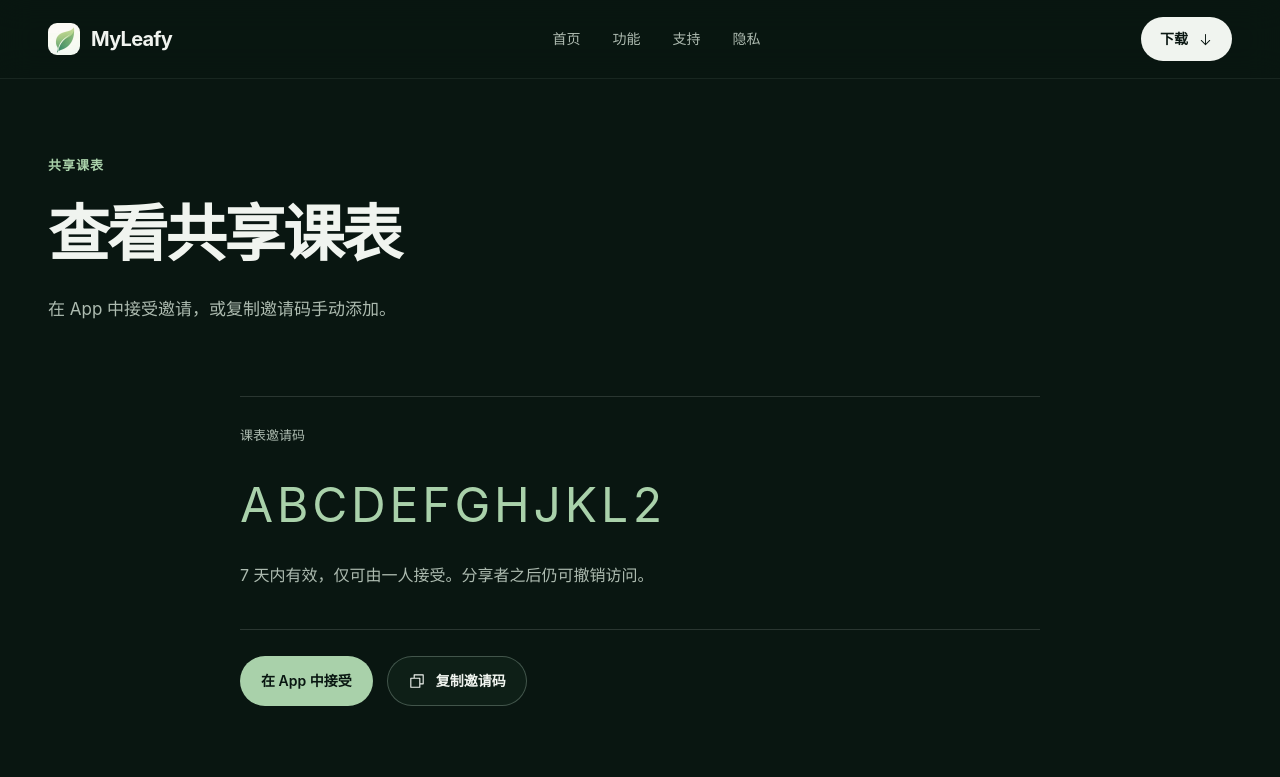
it: share link states › reports clipboard success and failure without a false success state
Click the button "复制邀请码".
click(457, 681)  # box [387,656,527,706]
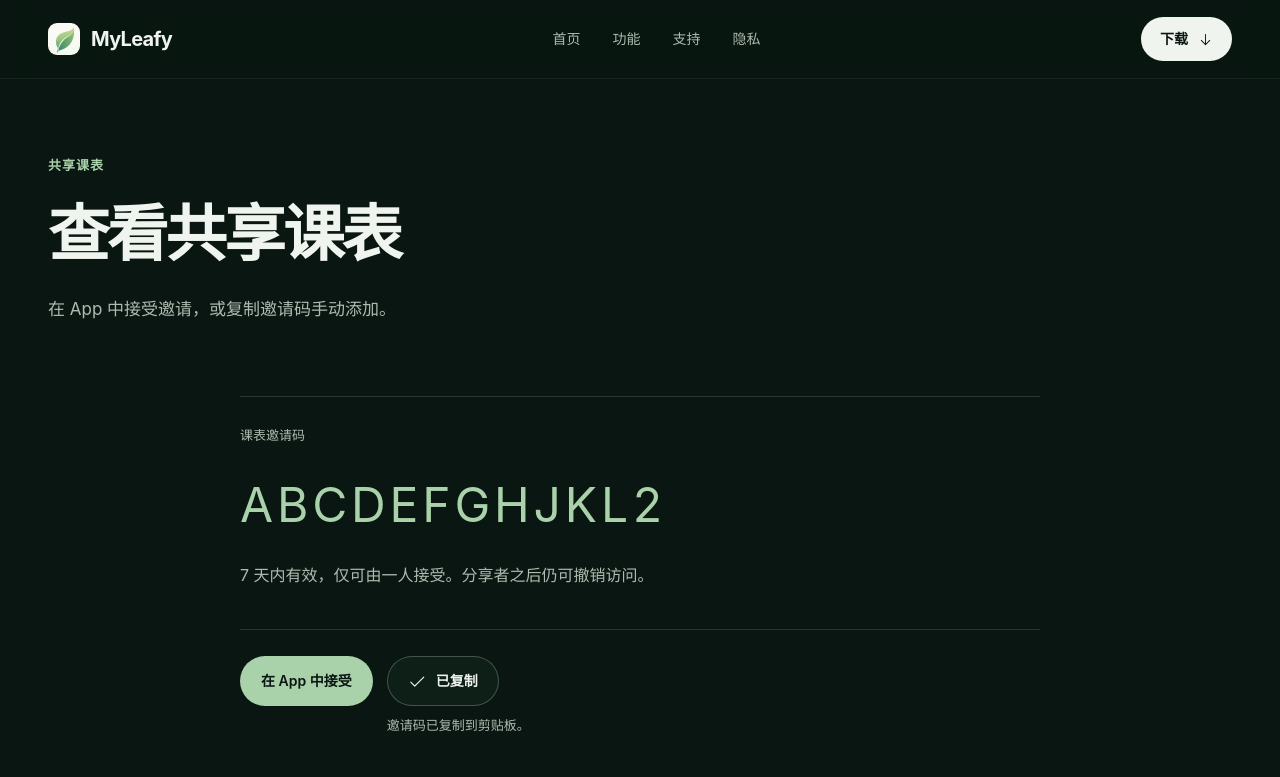
Check: the message shows "邀请码已复制", box [387,717,530,733]
Click the button "已复制".
click(443, 681)  # box [387,656,499,706]
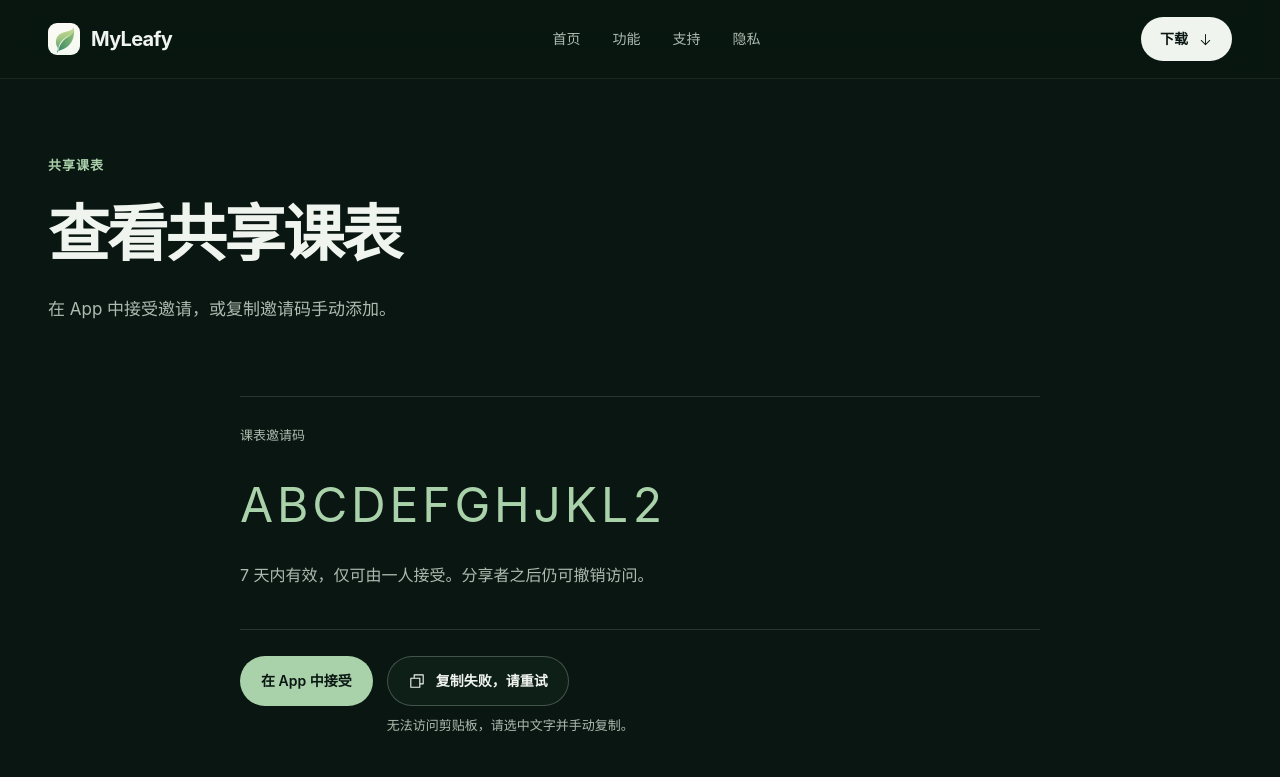
Check: the message shows "无法访问剪贴板", box [387,717,634,733]
